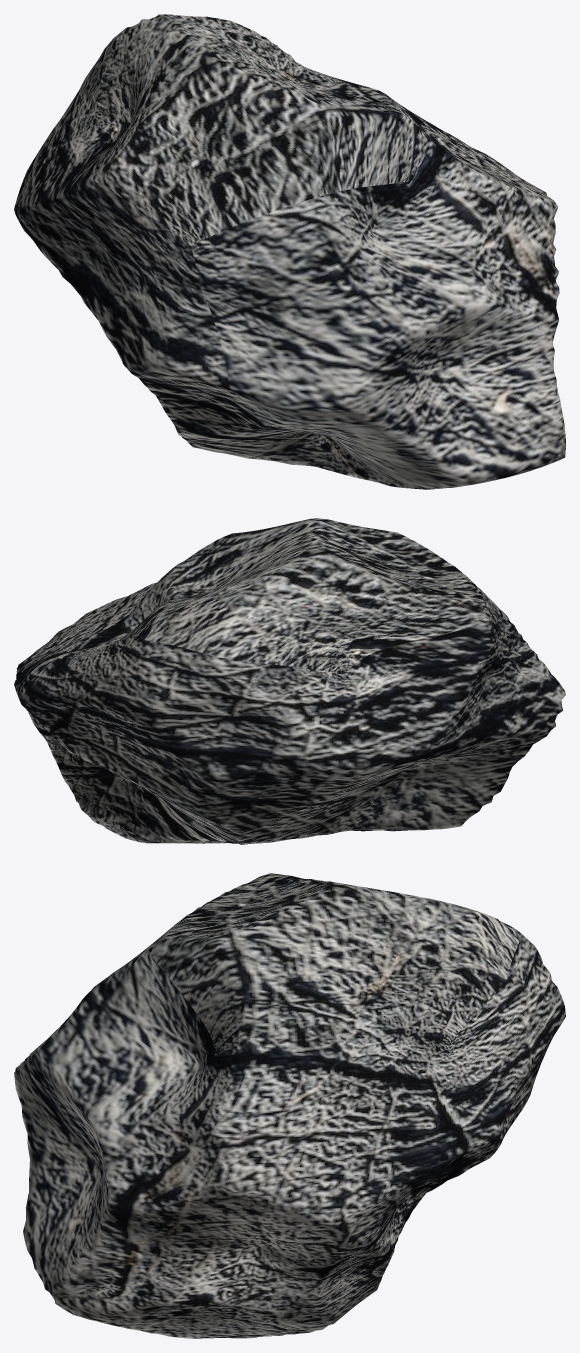
File: rocksssss.fbx
3 renders of one model, top to bottom at view 1: azimuth 30°, elevation 25°; view 2: azimuth 150°, elevation 25°; view 3: azimuth 270°, elevation 25°, orthographic. The views are drawn at different scales.
Parts seen in each view (by area): view 1: Cube; view 2: Cube; view 3: Cube.
Part boxes in pixels (box(x1,y1,x2,y2)): Cube: box(14, 14, 565, 489); Cube: box(14, 518, 565, 844); Cube: box(14, 873, 565, 1338).
Bounding box in the file's own units: 454 × 344 × 475.
1 material, 1 textured.
